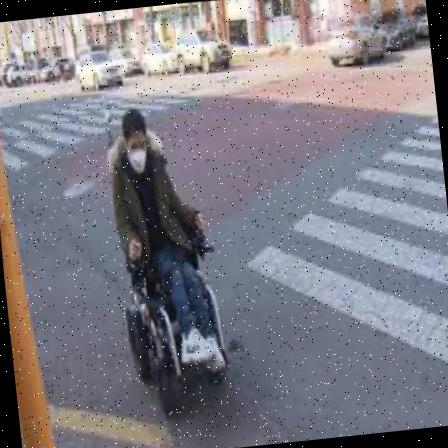wheel: (98, 100, 236, 417)
